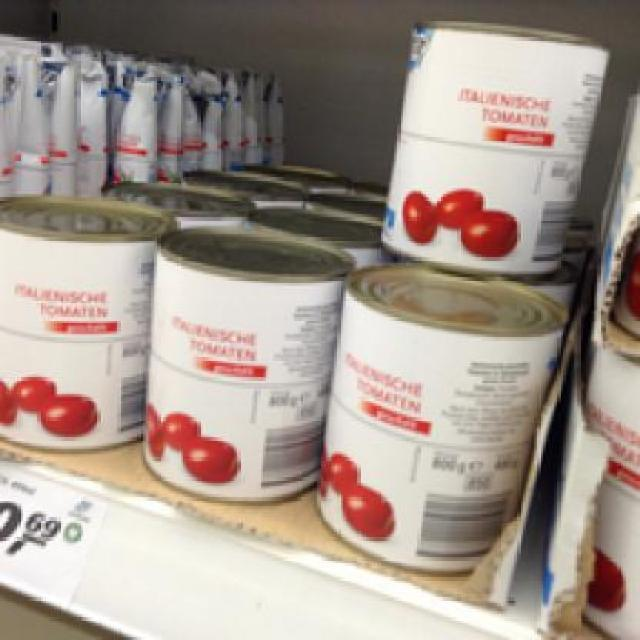Tomato Sauce: (310, 257, 566, 572), (372, 12, 612, 272), (137, 220, 354, 503), (0, 192, 169, 448)
